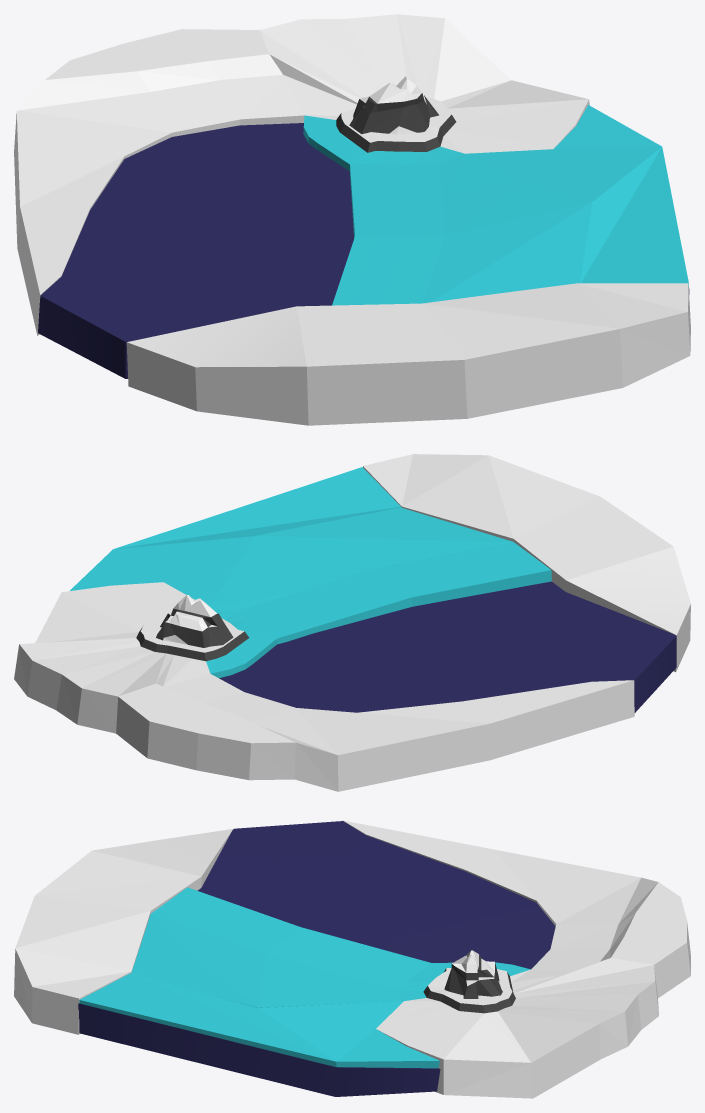
Rendered from environment.fbx.
3 views of the same model, one above another, from view 1: azimuth 30°, elevation 25°; view 2: azimuth 150°, elevation 25°; view 3: azimuth 270°, elevation 25° (orthographic). The views are drawn at different scales.
Visible parts, largest first — view 1: Box001; view 2: Box001; view 3: Box001.
Boxes of the visible parts, x1,y1,x2,y2 form: Box001: (14,14,690,425); Box001: (14,454,690,791); Box001: (14,820,690,1098).
Size of the model in its own units: 798 by 133 by 941.
